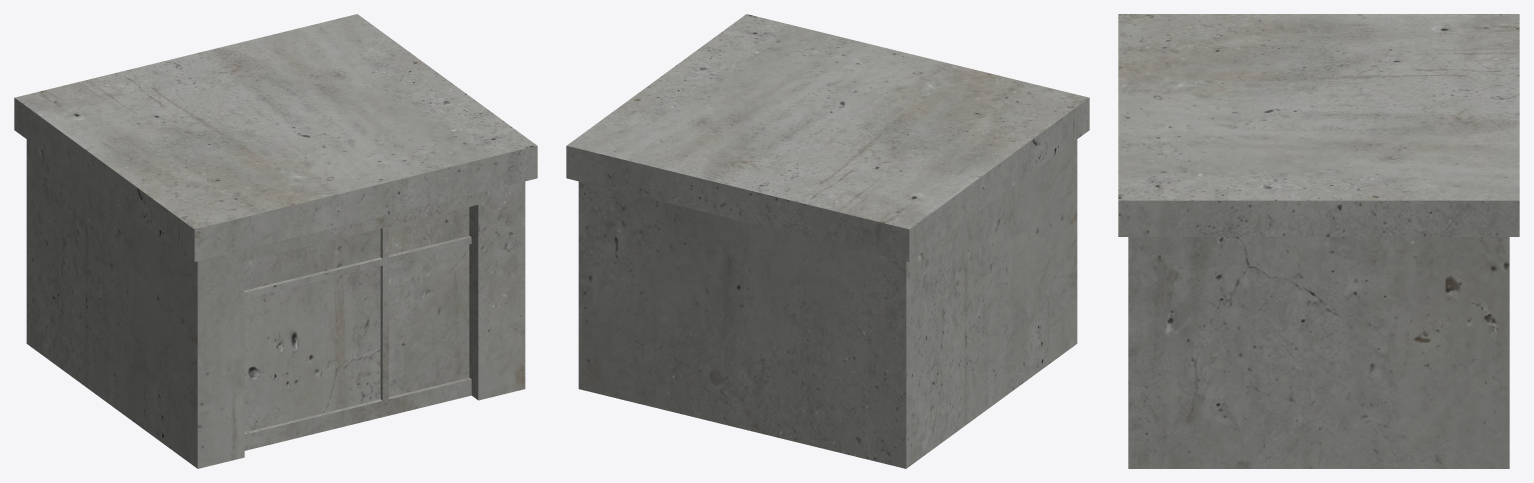
3 renders of one model, left to right at view 1: azimuth 30°, elevation 25°; view 2: azimuth 150°, elevation 25°; view 3: azimuth 270°, elevation 25°, orthographic. The views are drawn at different scales.
Visible parts, largest first — view 1: 1층; view 2: 1층; view 3: 1층.
Boxes of the visible parts, x1=… form: 1층: x1=14, y1=14, x2=537, y2=468; 1층: x1=566, y1=14, x2=1089, y2=468; 1층: x1=1118, y1=14, x2=1519, y2=468.
Bounding box in the file's own units: 220 × 150 × 200.
1 material, 1 textured.
